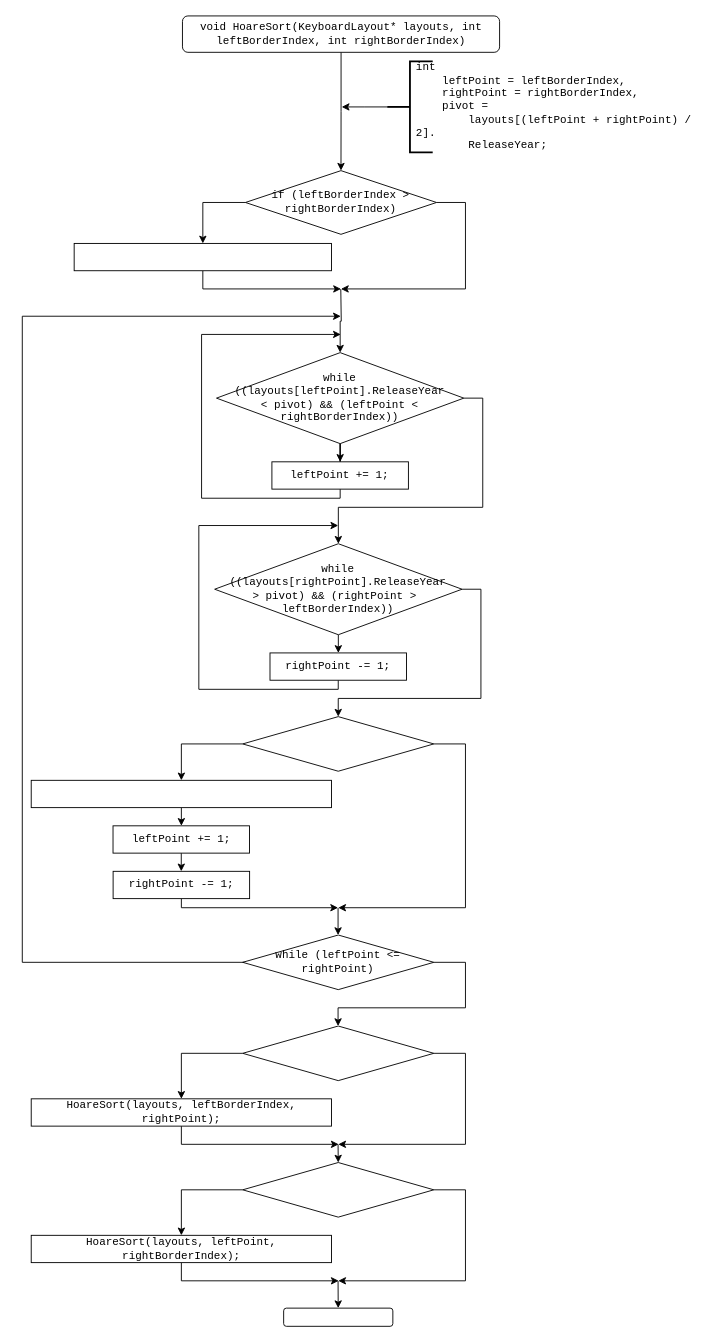
Image size: 715x1342. Some labels were removed from this diagram. Each missing label, with the centre of its shape:
if (leftBorderIndex < rightPoint): the point at 338,1053
if (leftPoint < rightBorderIndex): the point at 338,1189
if (leftPoint <= rightPoint): the point at 338,743
Swap(layouts[leftPoint], layouts[rightPoint]);: the point at 181,793
Swap(leftBorderIndex, rightBorderIndex);: the point at 202,257
